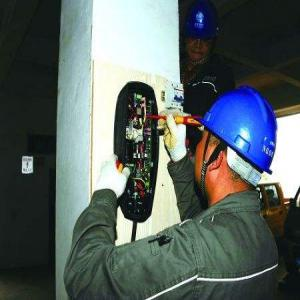blue: (195, 86, 276, 201), (185, 7, 218, 65)
